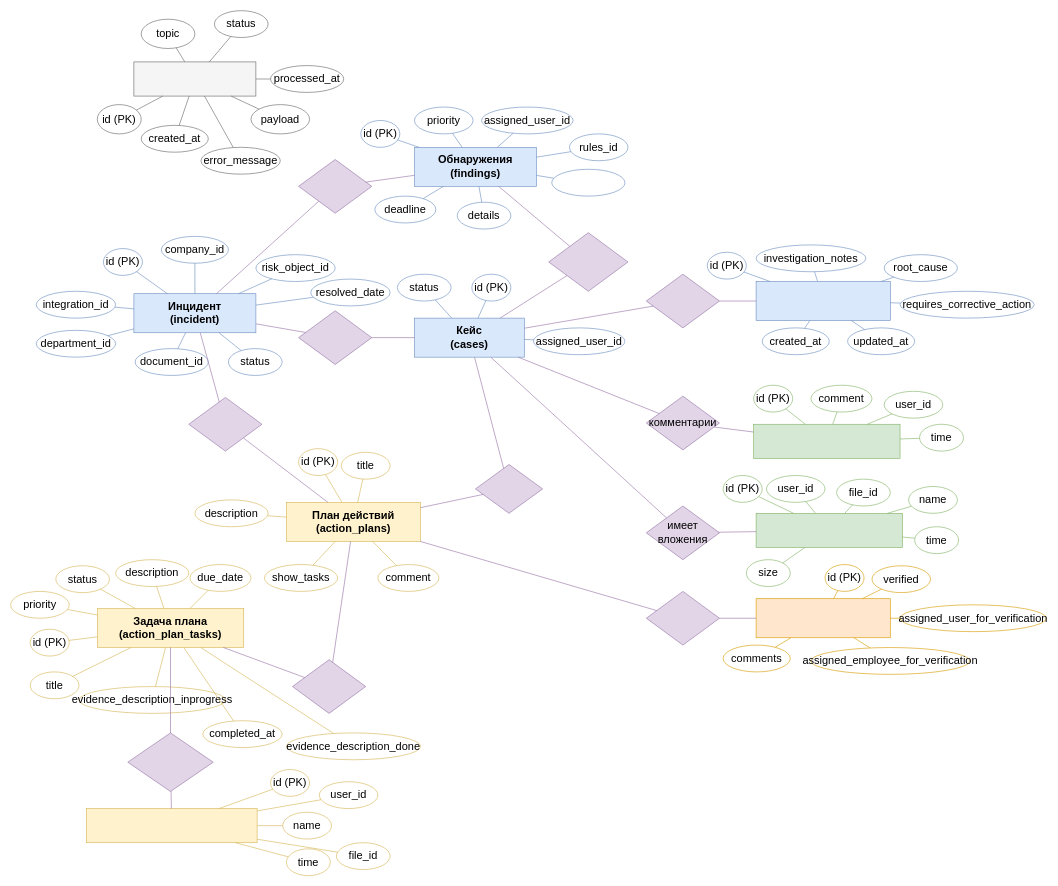
The diagram is 1058 pixels wide and 886 high, and some of its shapes have lost their labels. Each missing label, with the centre of its shape:
detected_at: pixel 588 182
верификация: pixel 682 618
Верификация плана (verifications): pixel 822 618
Вложение к кейсу (case_attachments): pixel 828 530
Доказательство по задаче (action_plan_task_evidences): pixel 171 825
имеет план: pixel 509 488
Исходящее сообщение (outbox_messages): pixel 194 78
Комментарий к кейсу (case_comments): pixel 826 441
относится к инциденту: pixel 225 424
подкрепляется доказательствами: pixel 170 761
порождает кейсы: pixel 335 337
раскрывается в кейсах: pixel 588 261
Расследование (investigations): pixel 822 301
расследуется: pixel 682 301
содержит обнаружения: pixel 335 186
состоит из задач: pixel 329 686
